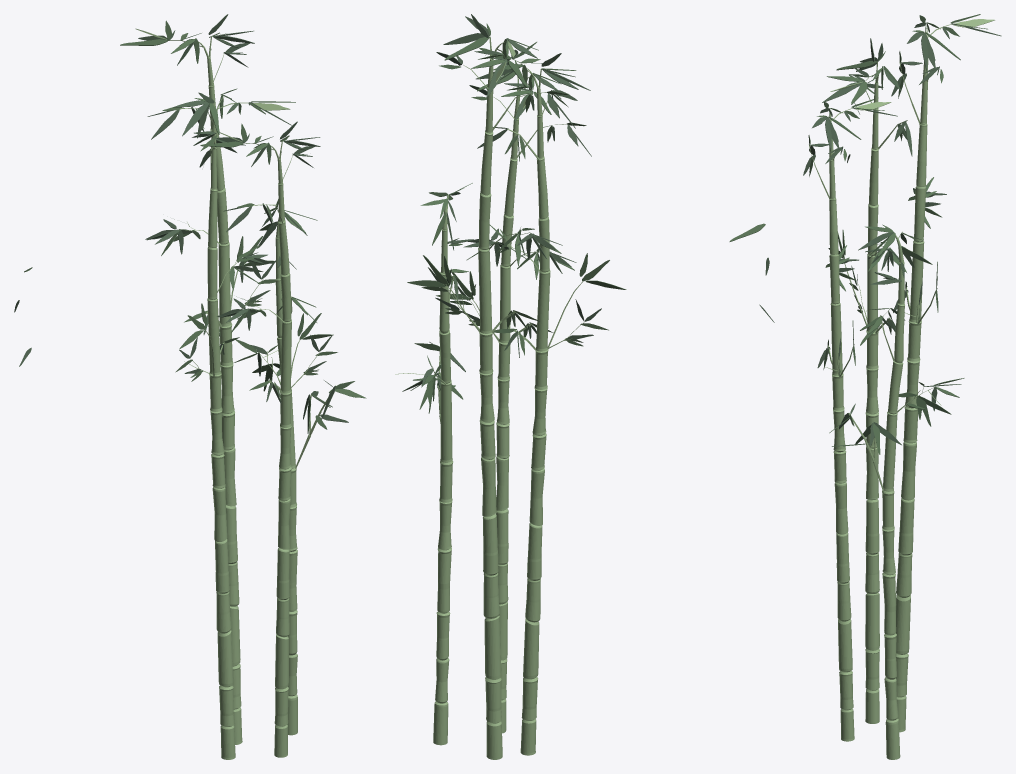
Rendered from group_longer bamboo2-3.fbx.
3 renders of one model, left to right at view 1: azimuth 30°, elevation 25°; view 2: azimuth 150°, elevation 25°; view 3: azimuth 270°, elevation 25°, orthographic. The views are drawn at different scales.
Visible parts, largest first — view 1: Cylinder.000, Cylinder.001, Cylinder.349, Plane.001; view 2: Cylinder.349, Cylinder.000, Cylinder.001, Plane.001; view 3: Cylinder.349, Cylinder.000, Cylinder.001, Plane.001.
Boxes of the visible parts, x1,y1,x2,y2 form: Cylinder.000: (174,88,295,759); Cylinder.001: (200,121,337,757); Cylinder.349: (120,14,275,744); Plane.001: (234,199,366,735); Cylinder.349: (407,14,575,759); Cylinder.000: (463,41,626,755); Cylinder.001: (436,60,591,733); Plane.001: (395,183,473,745); Cylinder.349: (891,14,1001,732); Cylinder.000: (822,38,912,723); Cylinder.001: (803,99,897,741); Plane.001: (829,224,964,759).
Size of the model in its own units: 4835 by 9751 by 2464.
